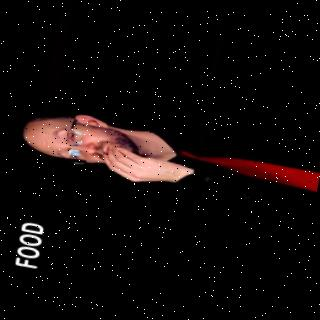Food: (12, 88, 320, 227)
